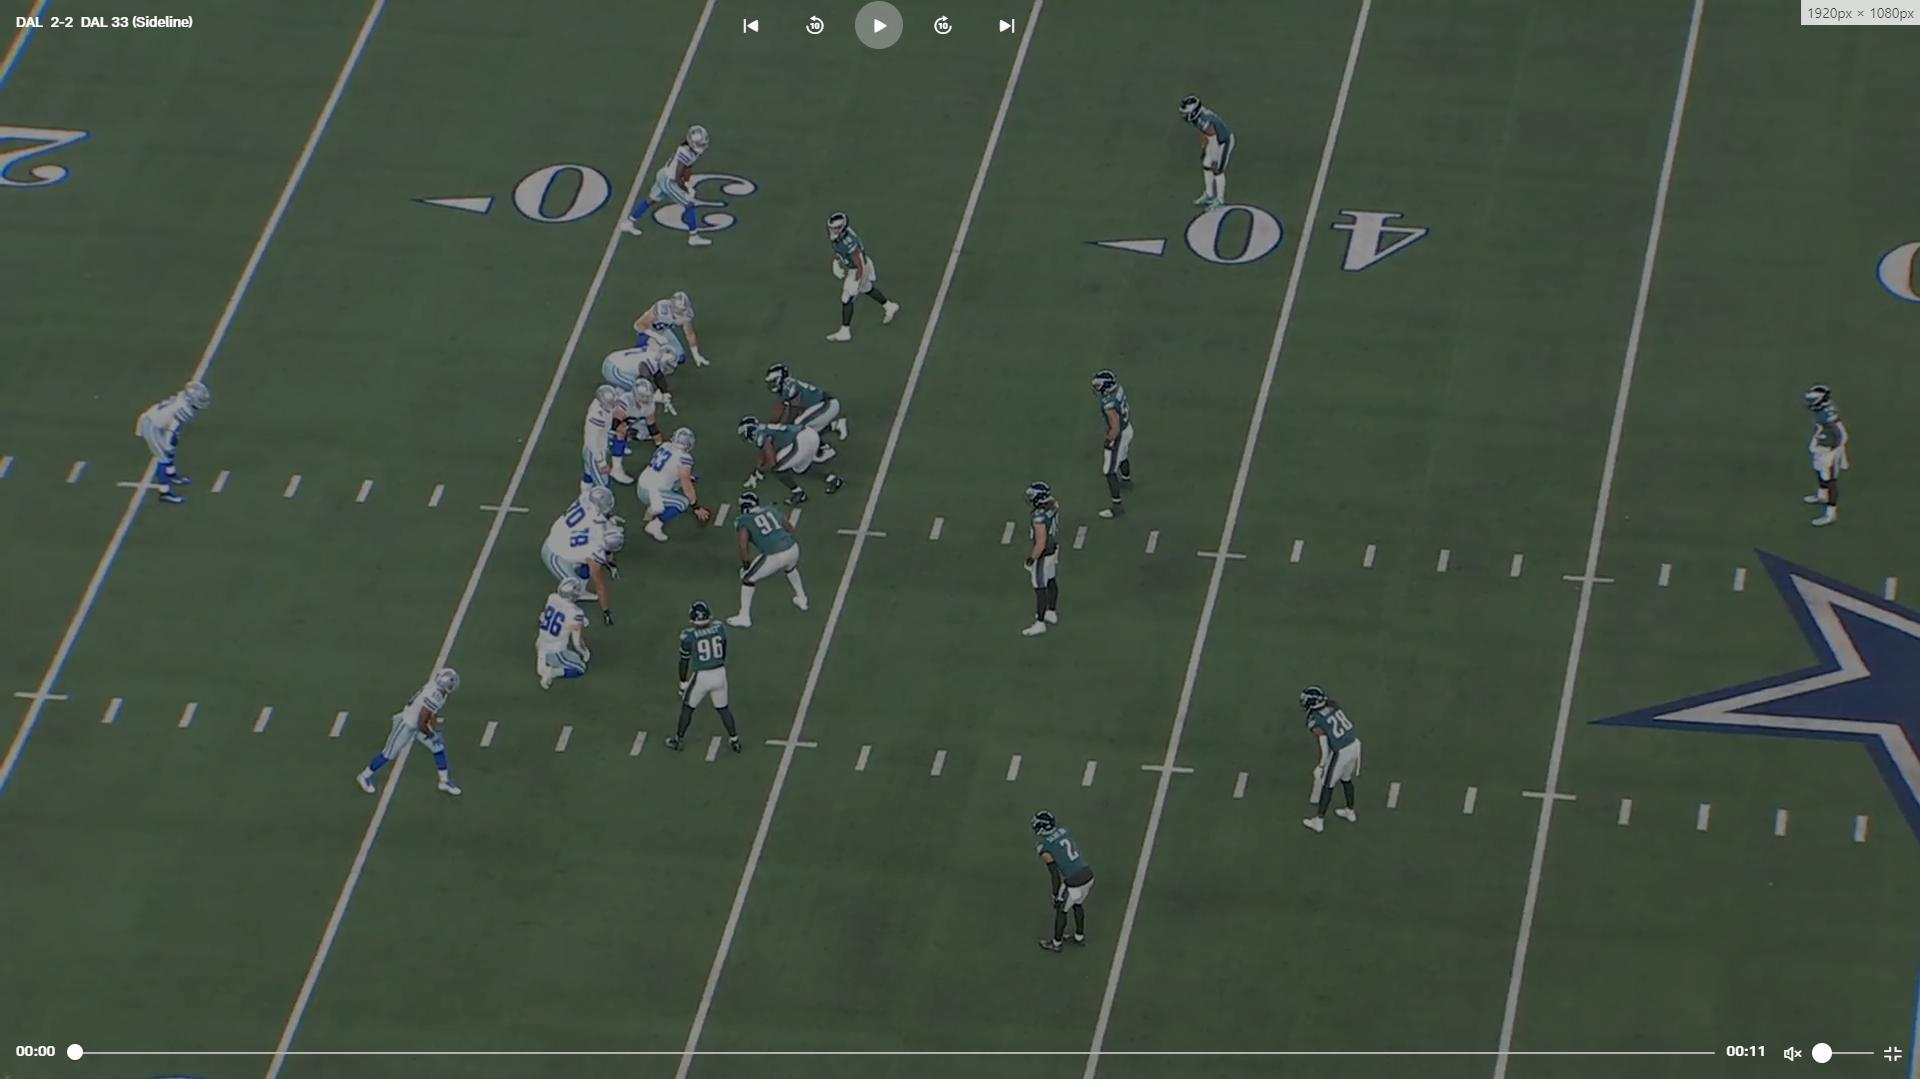defense: (662, 596, 745, 758), (731, 497, 824, 632), (820, 208, 902, 347), (735, 416, 844, 514), (1303, 686, 1370, 843), (1029, 809, 1097, 958), (1021, 481, 1072, 650), (1085, 367, 1137, 526), (1799, 383, 1853, 534), (767, 364, 856, 454), (1175, 90, 1236, 207)
oline: (637, 423, 713, 545), (543, 525, 625, 628), (605, 380, 666, 484), (601, 342, 684, 413), (547, 484, 620, 541)
qb: (580, 384, 624, 501)
skill: (355, 663, 469, 805), (618, 124, 717, 251), (135, 377, 215, 503), (538, 578, 608, 696), (630, 290, 704, 375)
